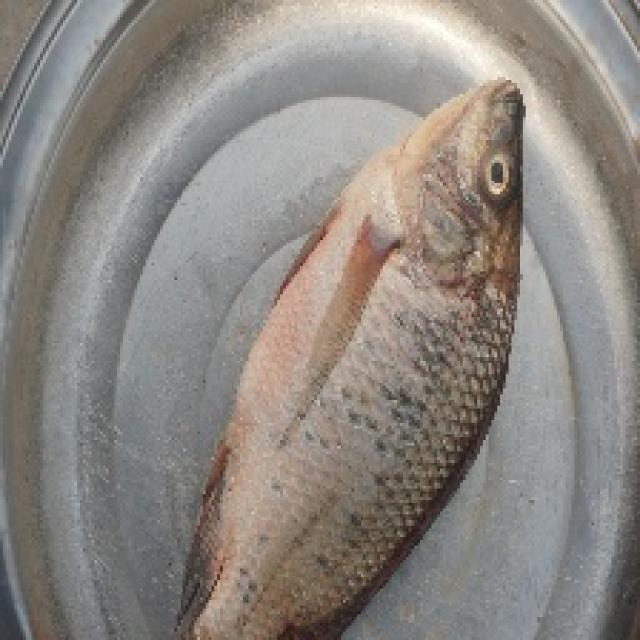Fresh: (186, 41, 534, 640)
